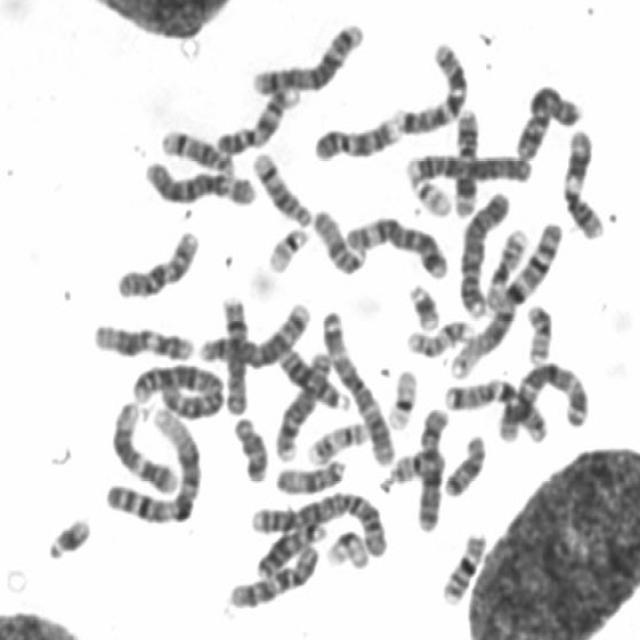A1: (445, 218, 565, 379), (102, 398, 203, 527)
A2: (248, 487, 386, 571), (128, 358, 226, 420)
A3: (317, 305, 396, 465), (494, 356, 592, 445)
B4: (455, 187, 510, 319), (402, 149, 532, 184)
B5: (249, 19, 365, 97), (196, 298, 314, 368)
C10: (222, 538, 322, 613), (112, 225, 202, 301)
C11: (559, 125, 606, 241), (449, 103, 482, 218)
C12: (107, 398, 179, 495), (89, 320, 195, 363)
C6: (341, 211, 450, 281), (140, 158, 257, 208)
C7: (442, 377, 548, 445), (392, 42, 472, 132)
C8: (272, 348, 333, 461), (217, 290, 250, 416)
C9: (212, 82, 302, 157), (315, 110, 415, 160)
D13: (275, 343, 350, 413), (252, 516, 328, 580)
D14: (248, 148, 314, 230), (156, 127, 236, 176)
D15: (310, 206, 368, 276), (273, 455, 348, 496)
E16: (437, 528, 489, 608), (482, 225, 530, 309)
E17: (304, 417, 370, 466), (404, 316, 474, 359)
E18: (439, 432, 486, 498), (230, 411, 270, 484)
F19: (383, 364, 419, 432), (322, 527, 370, 570)
F20: (386, 453, 454, 490), (522, 300, 554, 363)
G21: (44, 512, 92, 562), (402, 280, 442, 332)
G22: (262, 223, 310, 274), (406, 172, 453, 218)
X: (408, 402, 460, 536), (512, 80, 584, 162)
